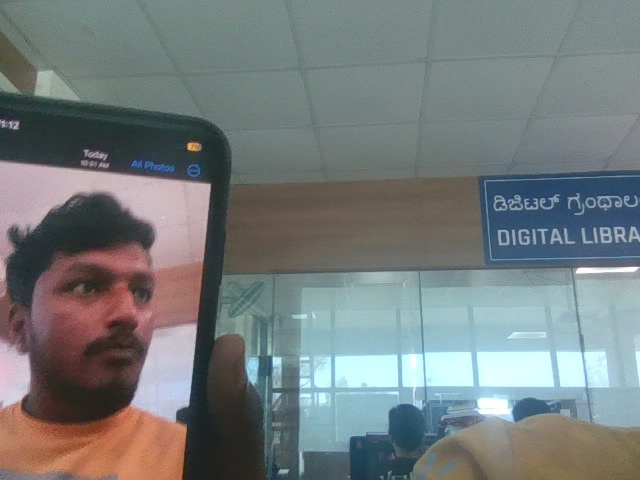fake: (18, 182, 182, 414)
